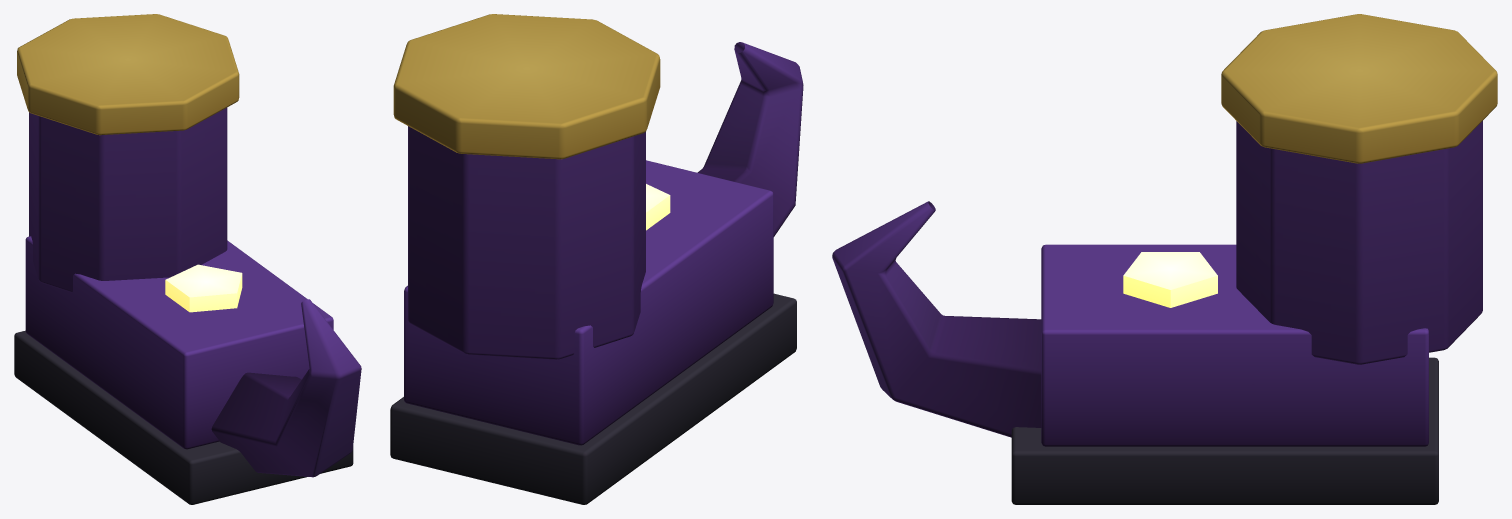
Rendered from hexed_boots.glb.
3 renders of one model, left to right at view 1: azimuth 30°, elevation 25°; view 2: azimuth 150°, elevation 25°; view 3: azimuth 270°, elevation 25°, orthographic. The views are drawn at different scales.
Visible parts, largest first — view 1: hexed_boots, hexed_boots_glow; view 2: hexed_boots, hexed_boots_glow; view 3: hexed_boots, hexed_boots_glow.
Boxes of the visible parts, x1=… form: hexed_boots: x1=14, y1=14, x2=361, y2=504; hexed_boots_glow: x1=165, y1=264, x2=242, y2=312; hexed_boots: x1=390, y1=14, x2=803, y2=504; hexed_boots_glow: x1=646, y1=184, x2=670, y2=230; hexed_boots: x1=832, y1=14, x2=1497, y2=504; hexed_boots_glow: x1=1123, y1=252, x2=1217, y2=307.
Size of the model in its own units: 0.5561 by 0.86 by 1.34.
